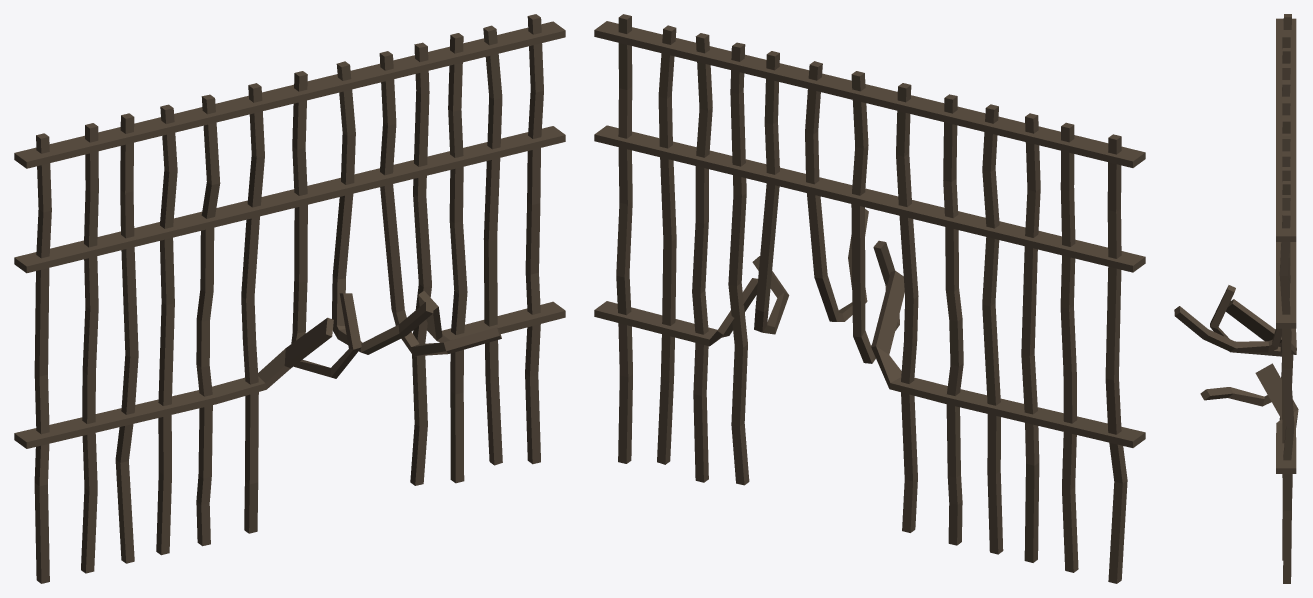
The model's file is jail_door_wall_broken.gltf.
3 renders of one model, left to right at view 1: azimuth 30°, elevation 25°; view 2: azimuth 150°, elevation 25°; view 3: azimuth 270°, elevation 25°, orthographic. The views are drawn at different scales.
Visible parts, largest first — view 1: Jail_Wall_broken; view 2: Jail_Wall_broken; view 3: Jail_Wall_broken.
Boxes of the visible parts, x1,y1,x2,y2 form: Jail_Wall_broken: (14, 14, 565, 583); Jail_Wall_broken: (594, 14, 1145, 583); Jail_Wall_broken: (1174, 14, 1298, 583).
Bounding box in the file's own units: 4 × 3.16 × 0.9646.
Materials: 1 (1 with a texture image).
